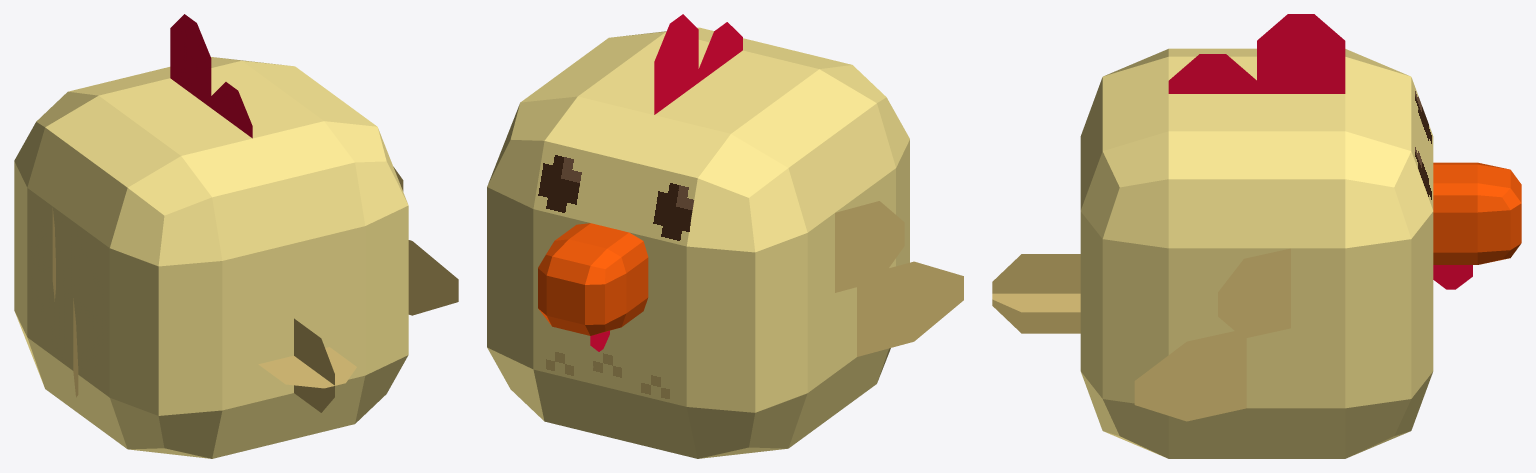
File: creature_3d.gltf
The picture shows the model from 3 angles, left to right: view 1: azimuth 30°, elevation 25°; view 2: azimuth 150°, elevation 25°; view 3: azimuth 270°, elevation 25°; orthographic projection. The views are drawn at different scales.
Parts seen in each view (by area): view 1: mesh; view 2: mesh; view 3: mesh.
Part boxes in pixels (<box>): mesh: <box>14,14,458,458</box>; mesh: <box>487,14,963,458</box>; mesh: <box>992,14,1521,458</box>.
Size of the model in its own units: 0.3327 by 0.3125 by 0.375.
Materials: 2 (2 with a texture image).
